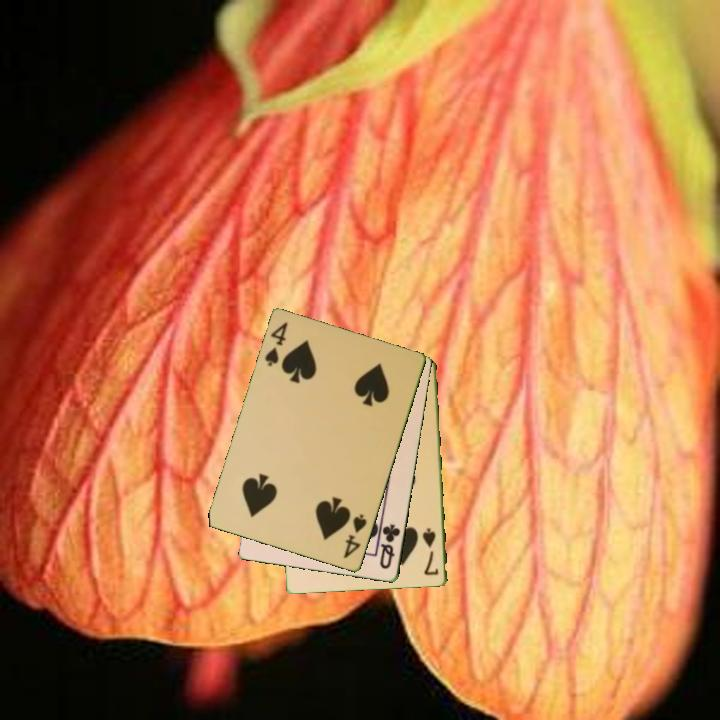4s: (340, 511, 370, 562), (262, 319, 291, 369)
7s: (419, 525, 442, 579)
Qc: (376, 521, 403, 572)
